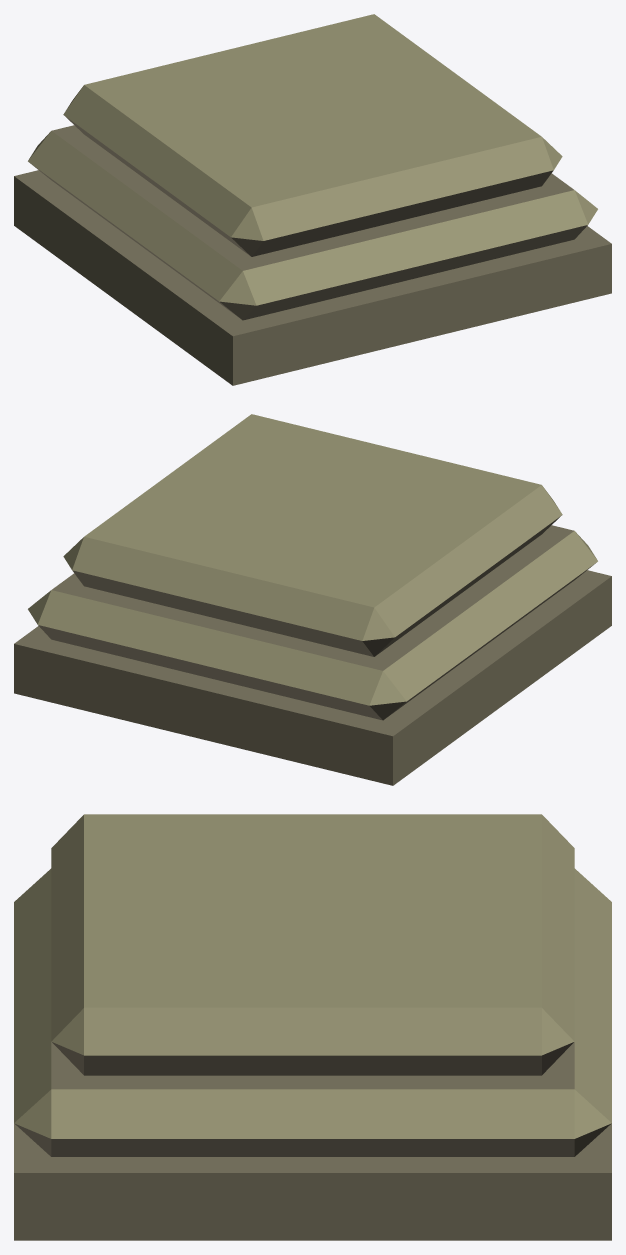
The model's file is Pillar Base.gltf.
3 renders of one model, top to bottom at view 1: azimuth 30°, elevation 25°; view 2: azimuth 150°, elevation 25°; view 3: azimuth 270°, elevation 25°, orthographic. The views are drawn at different scales.
Visible parts, largest first — view 1: beveled_cuboid (×2), cube; view 2: beveled_cuboid (×2), cube; view 3: beveled_cuboid (×2), cube.
Part boxes in pixels (left/top/right/bottom): beveled_cuboid (×2): left=28, top=14, right=597, bottom=320; cube: left=14, top=170, right=611, bottom=385; beveled_cuboid (×2): left=28, top=414, right=597, bottom=720; cube: left=14, top=570, right=611, bottom=785; beveled_cuboid (×2): left=14, top=814, right=611, bottom=1156; cube: left=14, top=1123, right=611, bottom=1240.
Bounding box in the file's own units: 1 × 0.375 × 1.
1 material, 1 textured.
